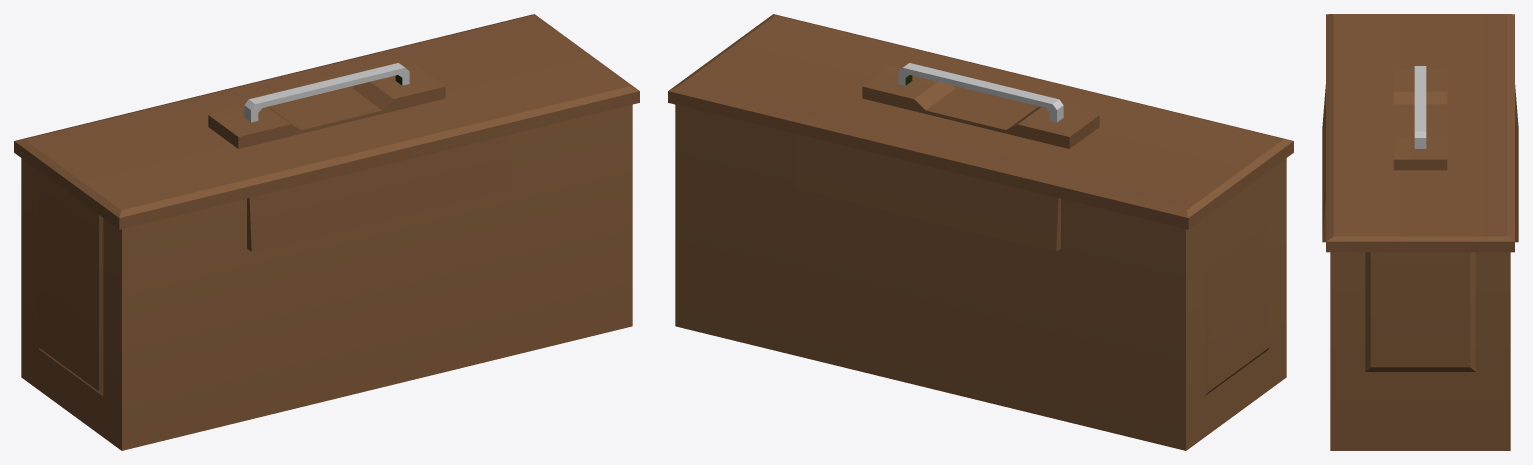
The model's file is Yellow Ammo Box.fbx.
3 views of the same model, side by side, from view 1: azimuth 30°, elevation 25°; view 2: azimuth 150°, elevation 25°; view 3: azimuth 270°, elevation 25° (orthographic). The views are drawn at different scales.
Parts seen in each view (by area): view 1: Green Ammo Box; view 2: Green Ammo Box; view 3: Green Ammo Box.
Part boxes in pixels (x1,y1,x2,y2): Green Ammo Box: (14, 14, 639, 450); Green Ammo Box: (668, 14, 1293, 450); Green Ammo Box: (1322, 14, 1518, 450).
Size of the model in its own units: 54.5 by 26.85 by 19.88.
